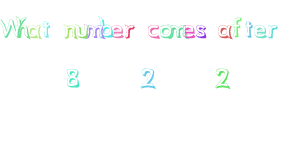2: (207, 62, 238, 91), (133, 63, 161, 92)
8: (60, 63, 88, 92)
W: (1, 12, 20, 44)
a: (216, 19, 233, 47), (26, 20, 43, 43)
b: (98, 11, 114, 44)
c: (144, 17, 161, 45)
e: (111, 14, 124, 46), (181, 17, 196, 44), (253, 22, 267, 44)
f: (232, 14, 244, 42)
h: (16, 13, 31, 44)
m: (85, 13, 106, 42), (168, 17, 187, 45)
n: (61, 18, 78, 43)
o: (159, 17, 174, 44)
r: (267, 17, 283, 44), (123, 16, 138, 43)
s: (195, 18, 210, 43)
t: (243, 18, 254, 43), (42, 17, 53, 41)
u: (74, 16, 89, 43)
